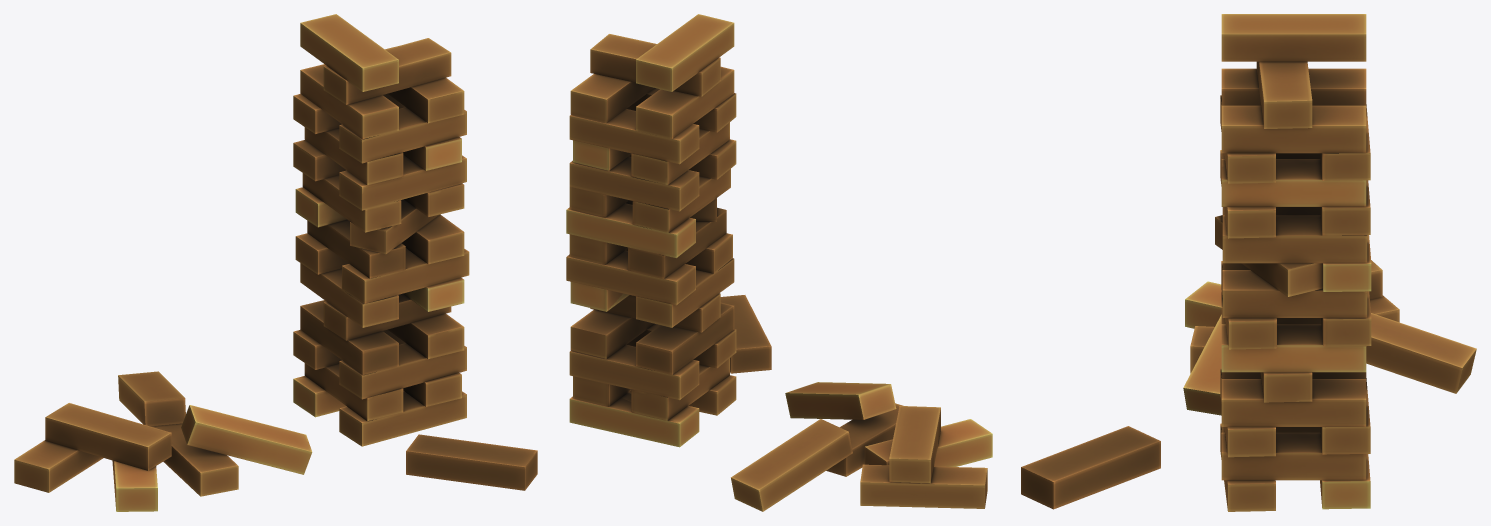
Rendered from 3D_Jenga.FBX.
3 views of the same model, side by side, from view 1: azimuth 30°, elevation 25°; view 2: azimuth 150°, elevation 25°; view 3: azimuth 270°, elevation 25° (orthographic). The views are drawn at different scales.
Visible parts, largest first — view 1: 3D_Jenga; view 2: 3D_Jenga; view 3: 3D_Jenga.
Boxes of the visible parts, <box> form: 3D_Jenga: <box>14,14,537,511</box>; 3D_Jenga: <box>566,14,992,511</box>; 3D_Jenga: <box>1021,14,1476,511</box>.
Size of the model in its own units: 115 by 100 by 94.4.
